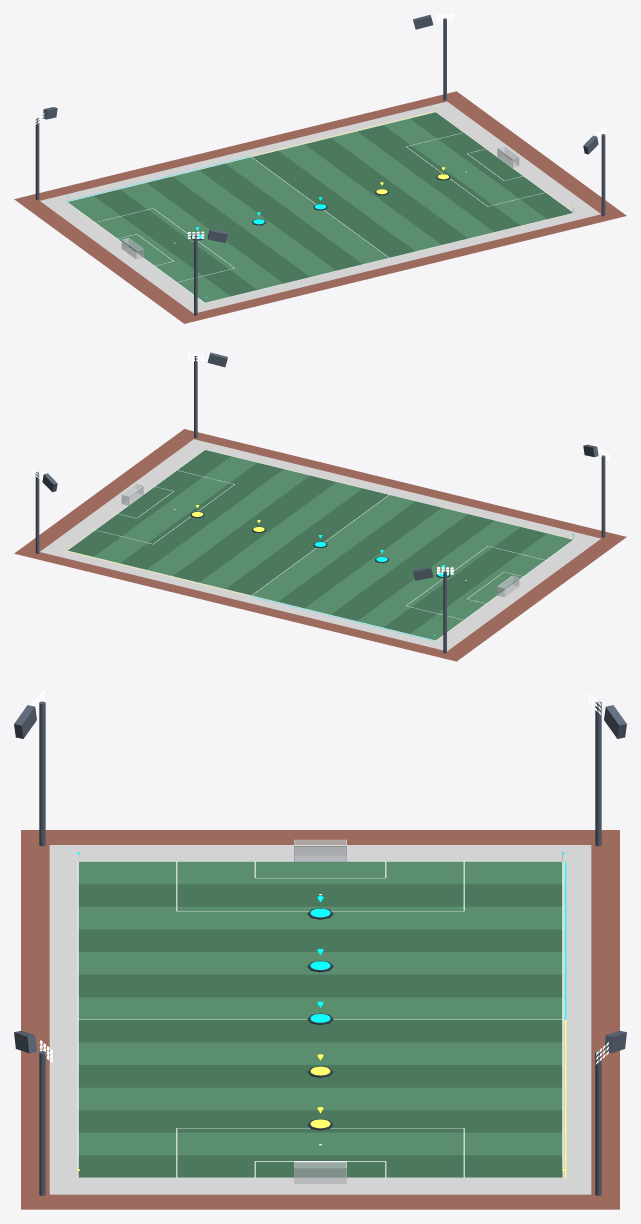
The model's file is dynamic_field.glb.
3 renders of one model, top to bottom at view 1: azimuth 30°, elevation 25°; view 2: azimuth 150°, elevation 25°; view 3: azimuth 270°, elevation 25°, orthographic. The views are drawn at different scales.
Parts seen in each view (by area): view 1: Track_Border_Outer, Track_Lane_Guide, Turf_Band_9, Turf_Band_11, Turf_Band_13, Turf_Band_6, Turf_Band_14, Turf_Band_7, Turf_Band_5, Turf_Band_10, Turf_Band_12, Turf_Band_2 (+4 smaller); view 2: Track_Border_Outer, Track_Lane_Guide, Turf_Band_9, Turf_Band_11, Turf_Band_6, Turf_Band_13, Turf_Band_14, Turf_Band_7, Turf_Band_5, Turf_Band_10, Turf_Band_12, Turf_Band_8 (+4 smaller); view 3: Track_Border_Outer, Track_Lane_Guide, Turf_Band_6, Turf_Band_13, Turf_Band_1, Turf_Band_11, Turf_Band_3, Turf_Band_4, Turf_Band_9, Turf_Band_2, Turf_Band_8, Turf_Band_14 (+10 smaller).
Part boxes in pixels (bbox=[...]): Track_Border_Outer: bbox=[14, 91, 626, 323]; Track_Lane_Guide: bbox=[40, 101, 600, 313]; Turf_Band_9: bbox=[278, 144, 441, 251]; Turf_Band_11: bbox=[331, 131, 494, 238]; Turf_Band_13: bbox=[384, 118, 546, 225]; Turf_Band_6: bbox=[199, 163, 362, 270]; Turf_Band_14: bbox=[410, 112, 572, 219]; Turf_Band_7: bbox=[225, 157, 388, 263]; Turf_Band_5: bbox=[173, 170, 335, 276]; Turf_Band_10: bbox=[304, 138, 467, 244]; Turf_Band_12: bbox=[357, 125, 520, 231]; Turf_Band_2: bbox=[94, 189, 256, 296]; Track_Border_Outer: bbox=[14, 429, 626, 661]; Track_Lane_Guide: bbox=[40, 439, 600, 651]; Turf_Band_9: bbox=[199, 482, 362, 588]; Turf_Band_11: bbox=[146, 469, 309, 576]; Turf_Band_6: bbox=[278, 501, 441, 608]; Turf_Band_13: bbox=[94, 456, 256, 563]; Turf_Band_14: bbox=[68, 450, 230, 556]; Turf_Band_7: bbox=[252, 495, 415, 601]; Turf_Band_5: bbox=[304, 507, 467, 614]; Turf_Band_10: bbox=[173, 475, 335, 582]; Turf_Band_12: bbox=[120, 462, 283, 569]; Turf_Band_8: bbox=[226, 488, 388, 595]; Track_Border_Outer: bbox=[21, 830, 619, 1209]; Track_Lane_Guide: bbox=[49, 845, 591, 1194]; Turf_Band_6: bbox=[78, 974, 562, 997]; Turf_Band_13: bbox=[78, 1132, 562, 1155]; Turf_Band_1: bbox=[78, 861, 562, 884]; Turf_Band_11: bbox=[78, 1087, 562, 1110]; Turf_Band_3: bbox=[78, 906, 562, 929]; Turf_Band_4: bbox=[78, 929, 562, 951]; Turf_Band_9: bbox=[78, 1042, 562, 1064]; Turf_Band_2: bbox=[78, 884, 562, 906]; Turf_Band_8: bbox=[78, 1020, 562, 1042]; Turf_Band_14: bbox=[78, 1155, 562, 1177].
Size of the model in its own units: 126 by 23.06 by 85.97.
